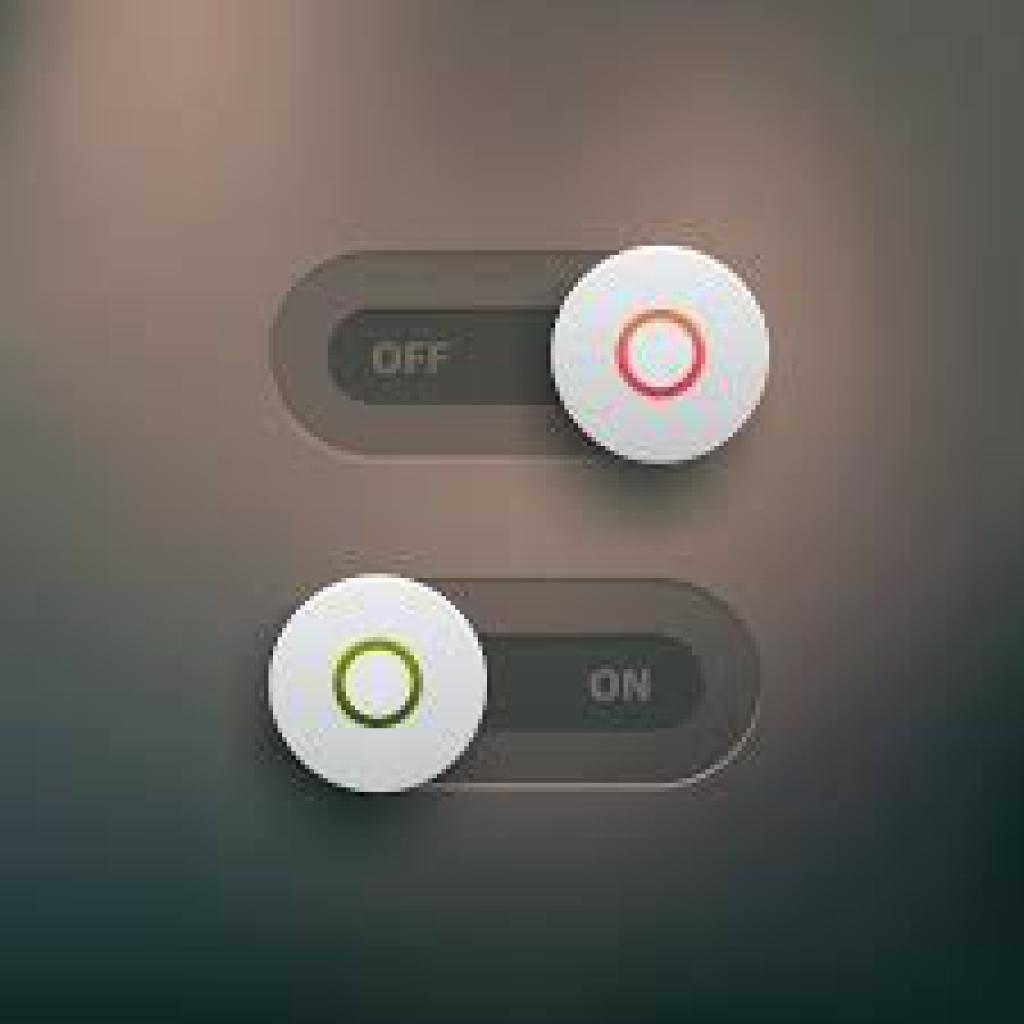switch: (269, 237, 777, 475), (260, 576, 765, 801)
